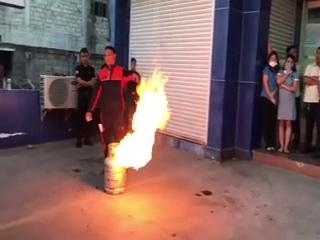Fire: (114, 71, 175, 170)
